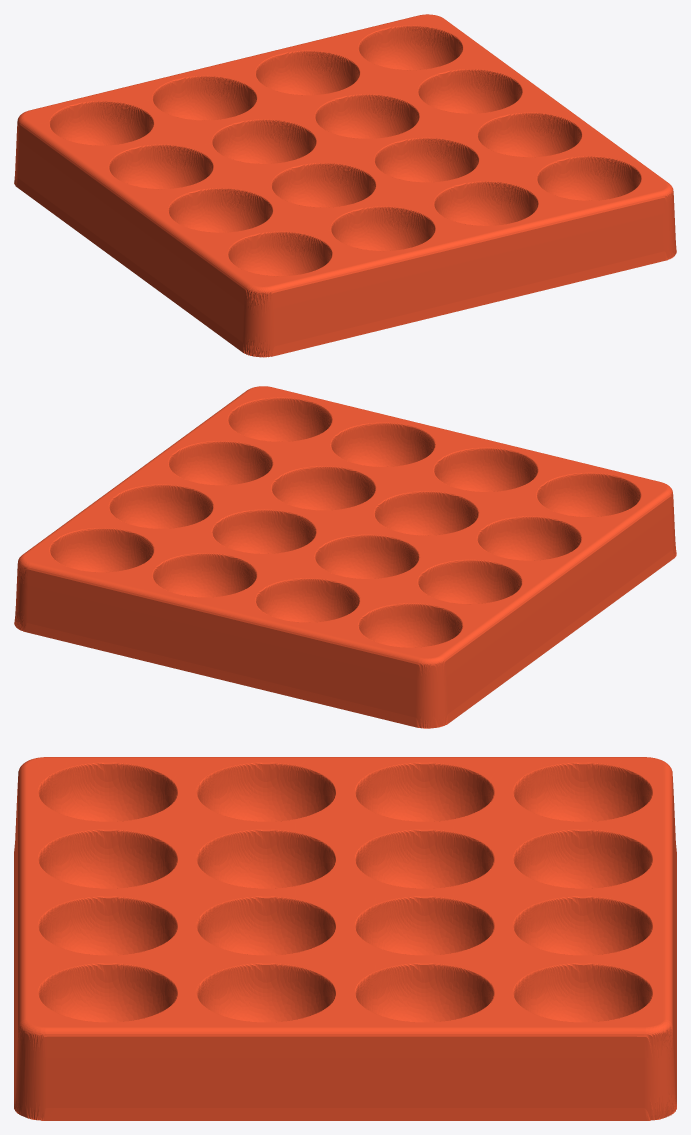
File: mold.glb
3 renders of one model, top to bottom at view 1: azimuth 30°, elevation 25°; view 2: azimuth 150°, elevation 25°; view 3: azimuth 270°, elevation 25°, orthographic. The views are drawn at different scales.
Visible parts, largest first — view 1: geometry_0; view 2: geometry_0; view 3: geometry_0.
Boxes of the visible parts, box(x1,y1,x2,y2) form: geometry_0: box(14, 14, 676, 357); geometry_0: box(14, 386, 676, 728); geometry_0: box(14, 757, 676, 1120).
Size of the model in its own units: 0.1856 by 0.0273 by 0.1856.
